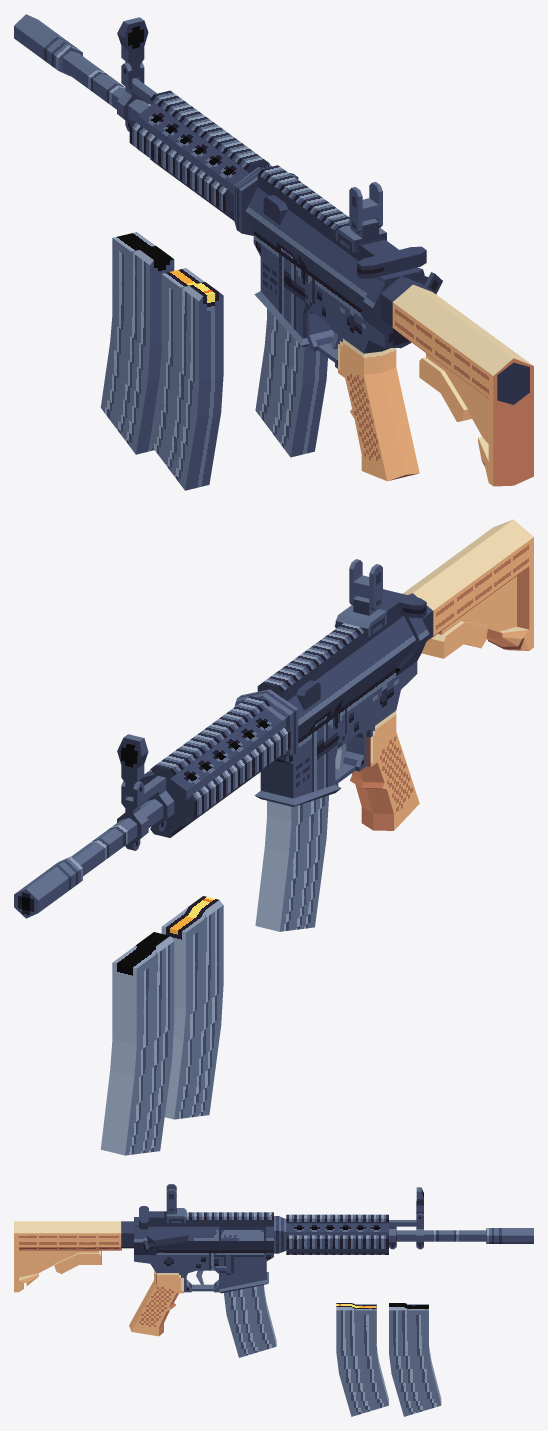
File: pixel_m4a1 (1).glb
The picture shows the model from 3 angles, top to bottom: view 1: azimuth 30°, elevation 25°; view 2: azimuth 150°, elevation 25°; view 3: azimuth 270°, elevation 25°; orthographic projection. The views are drawn at different scales.
Visible parts, largest first — view 1: M4A1, M4A1_stock, M4A1_magazine_full_xtra, M4A1_magazine_empty, M4A1_magazine_full, M4A1_chargingHandle, M4A1_rearSight2, M4A1_frontSight, M4A1_rearSight; view 2: M4A1, M4A1_magazine_empty, M4A1_stock, M4A1_magazine_full_xtra, M4A1_magazine_full, M4A1_frontSight, M4A1_rearSight2, M4A1_rearSight, M4A1_chargingHandle; view 3: M4A1, M4A1_stock, M4A1_magazine_full_xtra, M4A1_magazine_empty, M4A1_magazine_full, M4A1_rearSight2.
Part boxes in pixels (bbox=[...]): M4A1: bbox=[14, 14, 529, 481]; M4A1_stock: bbox=[392, 284, 533, 486]; M4A1_magazine_full_xtra: bbox=[150, 268, 223, 490]; M4A1_magazine_empty: bbox=[100, 232, 174, 454]; M4A1_magazine_full: bbox=[255, 309, 327, 457]; M4A1_chargingHandle: bbox=[357, 246, 426, 278]; M4A1_rearSight2: bbox=[349, 182, 382, 233]; M4A1_frontSight: bbox=[117, 17, 148, 78]; M4A1_rearSight: bbox=[335, 219, 386, 253]; M4A1: bbox=[14, 593, 433, 918]; M4A1_magazine_empty: bbox=[100, 932, 174, 1155]; M4A1_stock: bbox=[402, 519, 533, 658]; M4A1_magazine_full_xtra: bbox=[161, 896, 223, 1119]; M4A1_magazine_full: bbox=[255, 795, 328, 931]; M4A1_frontSight: bbox=[117, 734, 148, 797]; M4A1_rearSight2: bbox=[349, 559, 382, 610]; M4A1_rearSight: bbox=[335, 596, 386, 637]; M4A1_chargingHandle: bbox=[383, 589, 426, 619]; M4A1: bbox=[121, 1211, 533, 1336]; M4A1_stock: bbox=[14, 1221, 121, 1292]; M4A1_magazine_full_xtra: bbox=[336, 1303, 388, 1416]; M4A1_magazine_empty: bbox=[389, 1303, 441, 1416]; M4A1_magazine_full: bbox=[224, 1285, 276, 1357]; M4A1_rearSight2: bbox=[166, 1184, 176, 1212].
Size of the model in its own units: 1.33 by 6.25 by 13.
Materials: 1 (1 with a texture image).
